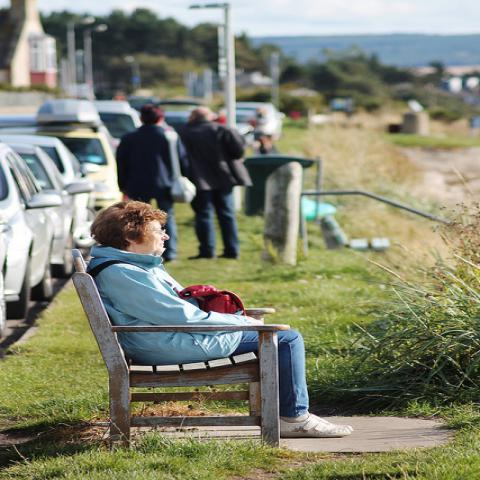car: (1, 132, 101, 257), (4, 144, 82, 279), (3, 143, 64, 311), (16, 126, 123, 212), (0, 110, 117, 150), (92, 99, 143, 147), (234, 102, 288, 142), (156, 98, 218, 129)
